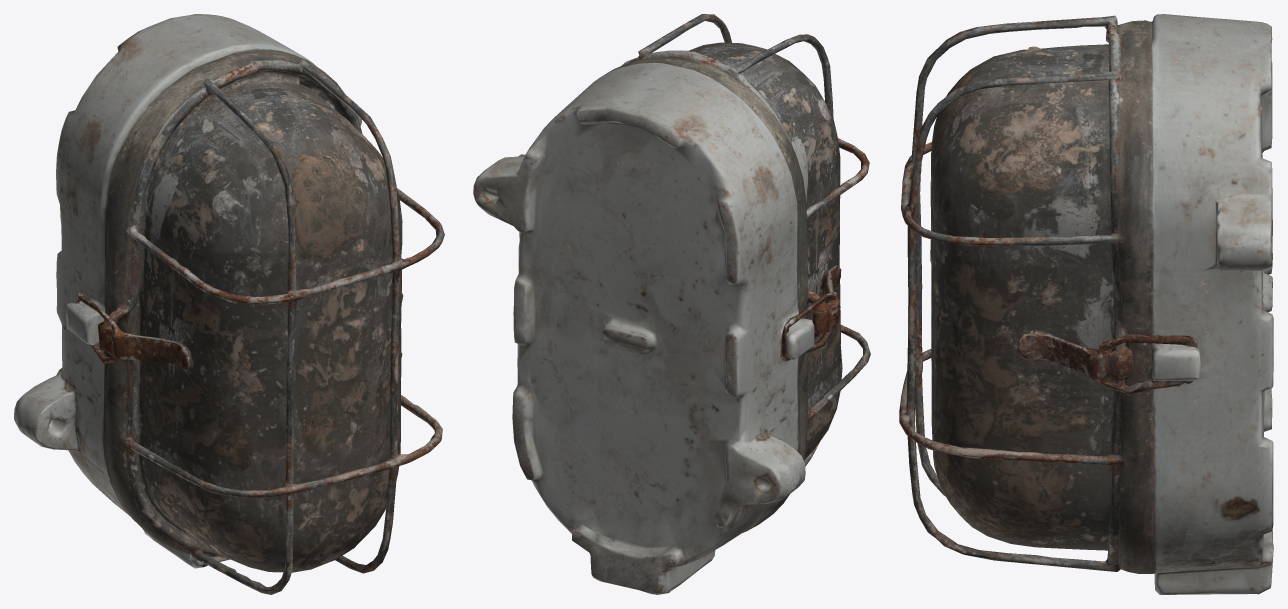
File: Wall_Light.fbx
The picture shows the model from 3 angles, left to right: view 1: azimuth 30°, elevation 25°; view 2: azimuth 150°, elevation 25°; view 3: azimuth 270°, elevation 25°; orthographic projection. The views are drawn at different scales.
Visible parts, largest first — view 1: Aset_props_hardware_S_vgyidfpaw_LOD2; view 2: Aset_props_hardware_S_vgyidfpaw_LOD2; view 3: Aset_props_hardware_S_vgyidfpaw_LOD2.
Part boxes in pixels (x1,y1,x2,y2): Aset_props_hardware_S_vgyidfpaw_LOD2: [14, 14, 444, 594]; Aset_props_hardware_S_vgyidfpaw_LOD2: [473, 14, 870, 594]; Aset_props_hardware_S_vgyidfpaw_LOD2: [899, 14, 1273, 594].
Bounding box in the file's own units: 0.1441 × 0.2138 × 0.1328.
